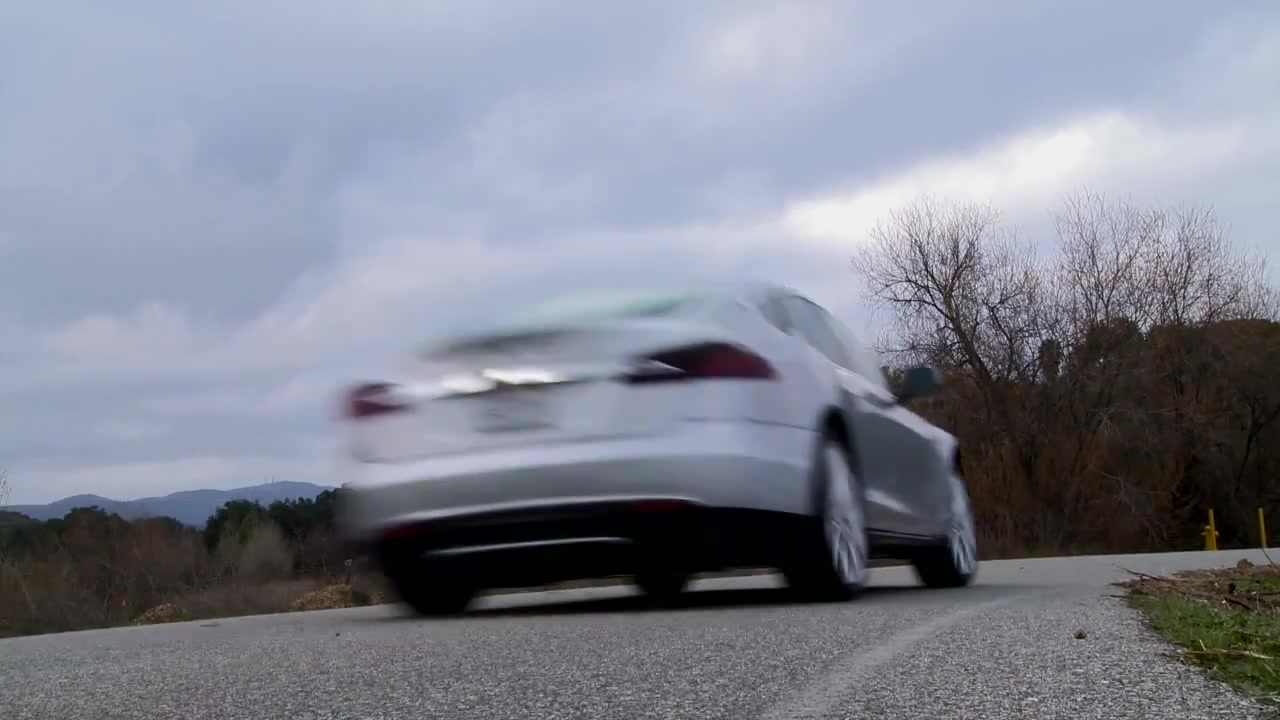car: (335, 278, 986, 620)
